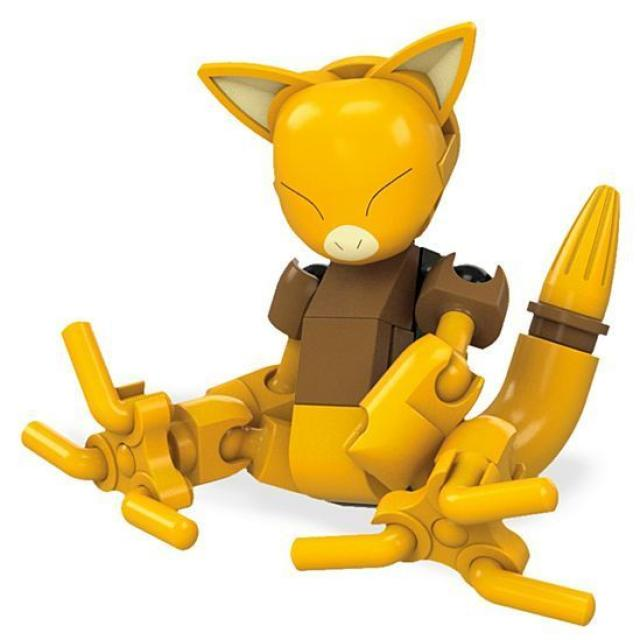Abra: (159, 31, 528, 560)
